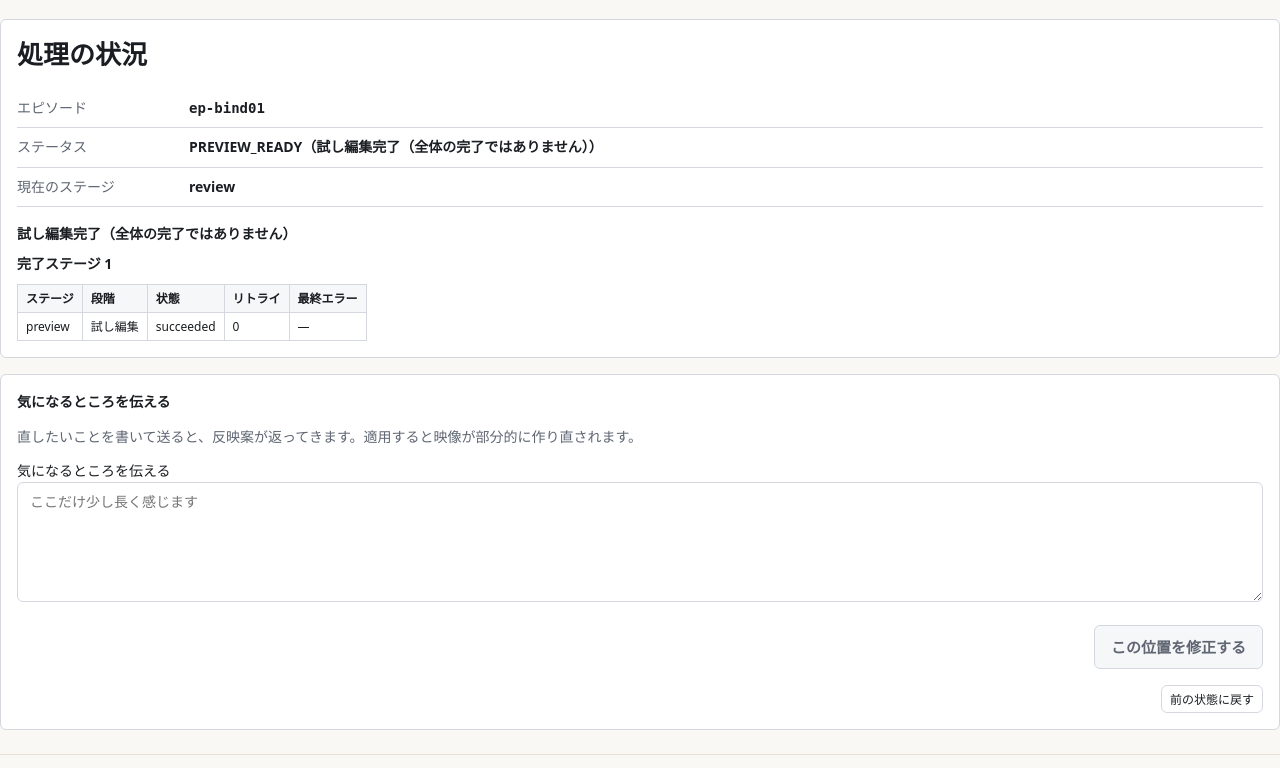
EpisodeView 試し編集binding（実行/対象版対応） › ヘッダなしの旧バックエンド→「不明（対象となる実行を特定できません）」。previewOk null では完了を出さない
Type "この後2秒残して" into the text box labelled "気になるところを伝える".
click(640, 542); type("この後2秒残して")  # box [17,482,1263,602]
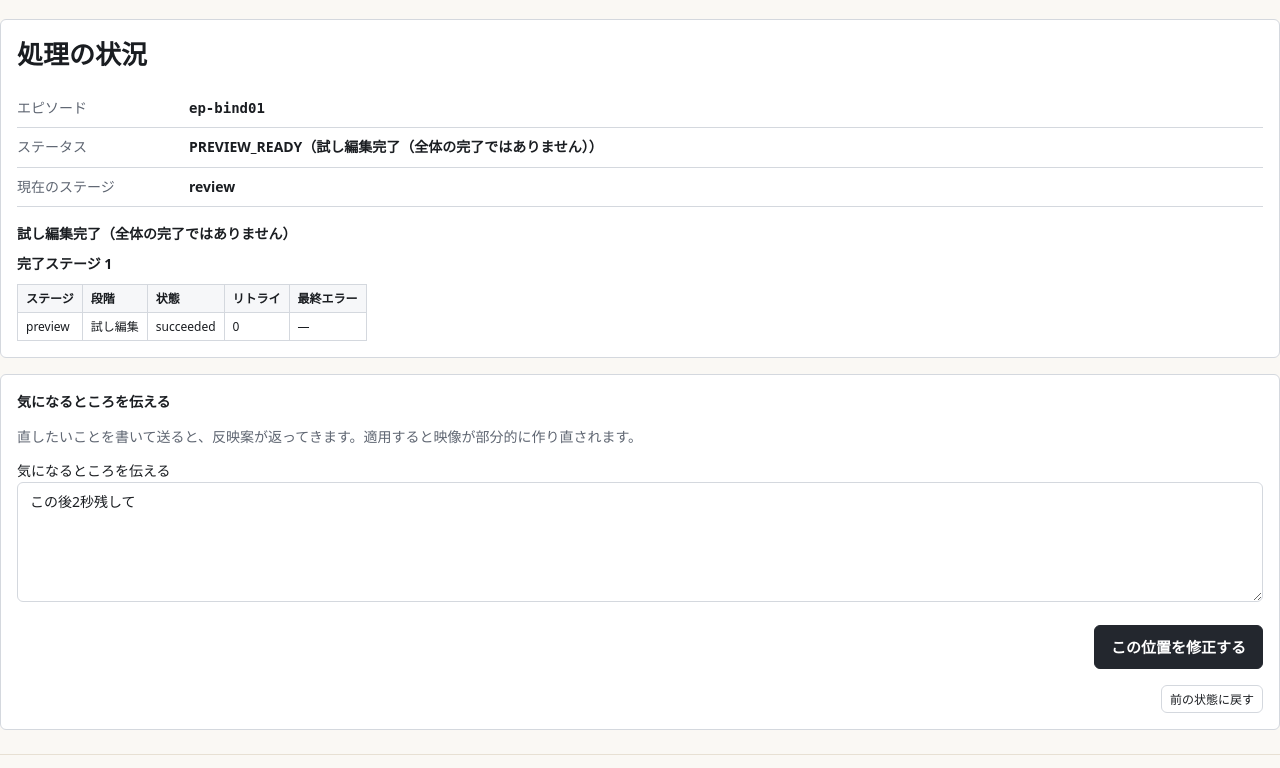
Click the button with test id "review-chat-send".
click(1178, 647)  # box [1094,625,1263,669]
(page scrolled)
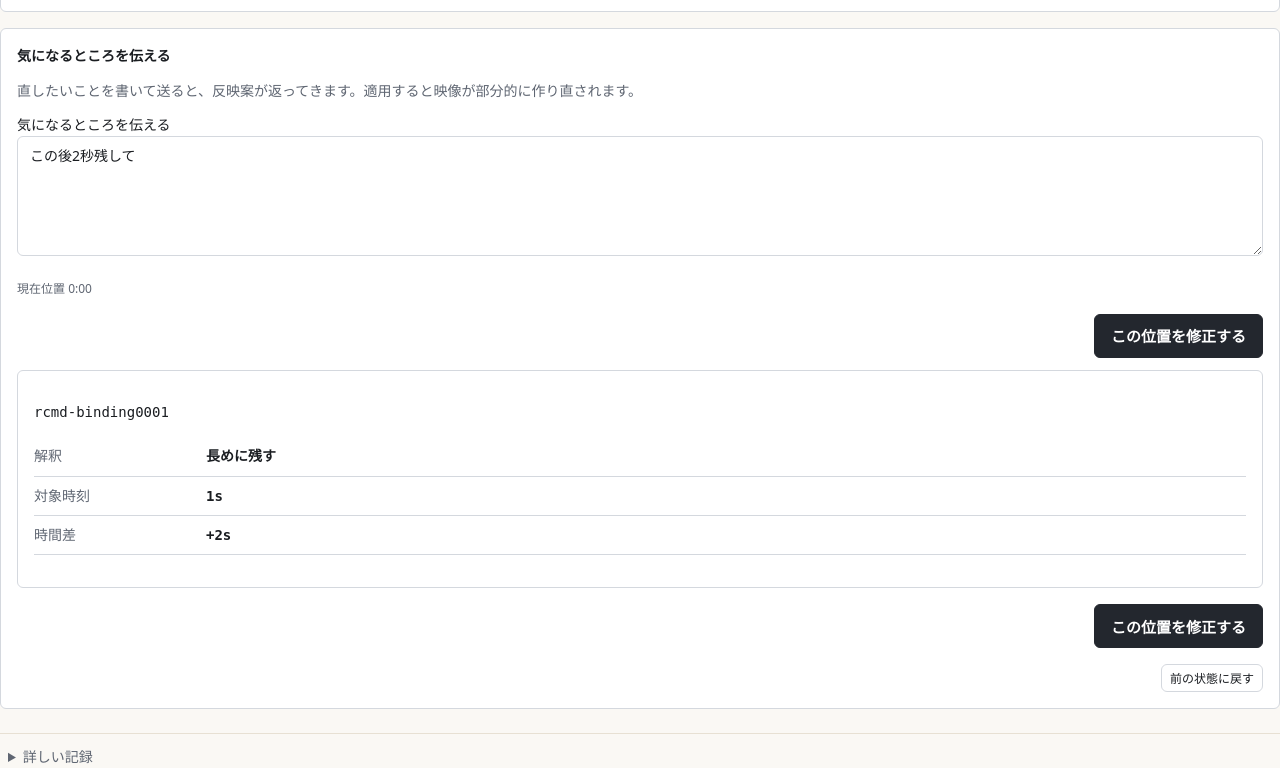
Click the button with test id "review-apply-button".
click(1178, 626)  # box [1094,604,1263,648]
Wait 2100 ms
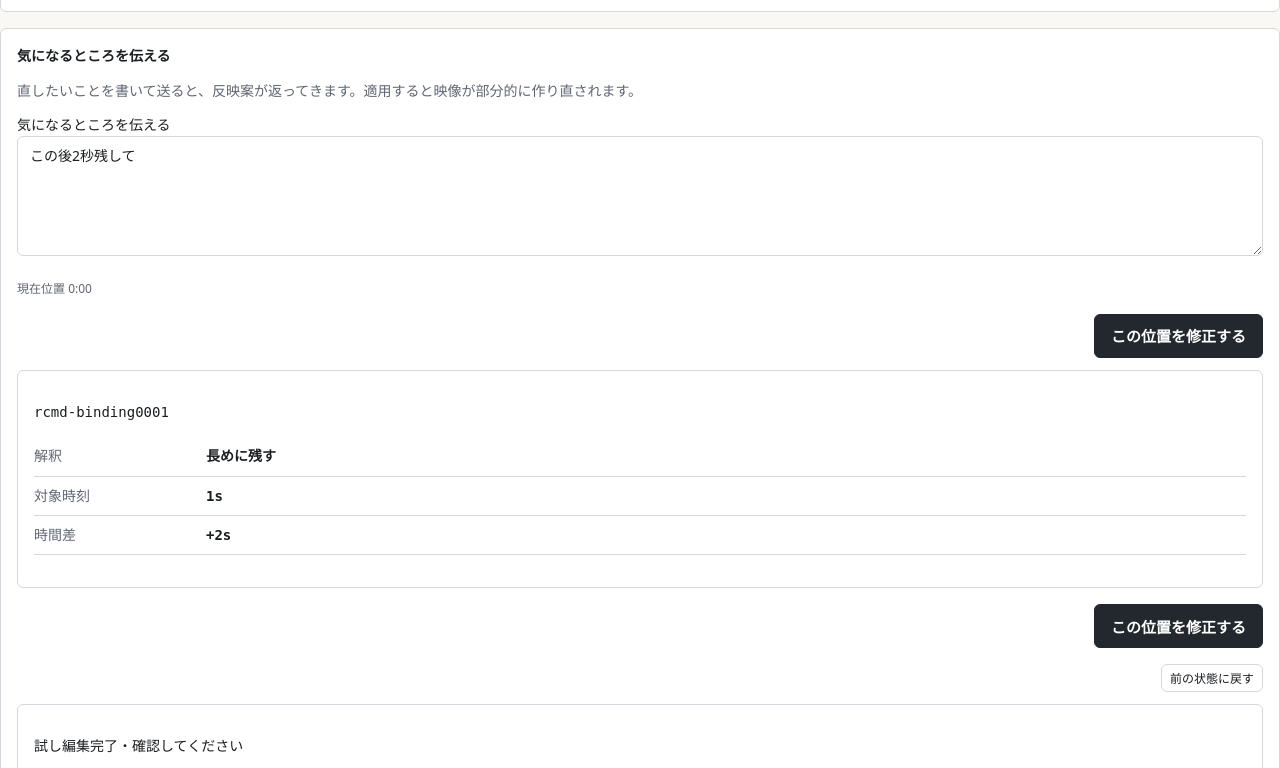
Check: the text with test id "rebuild-phase" reads "試し編集完了・確認してください", box [34,736,243,755]
